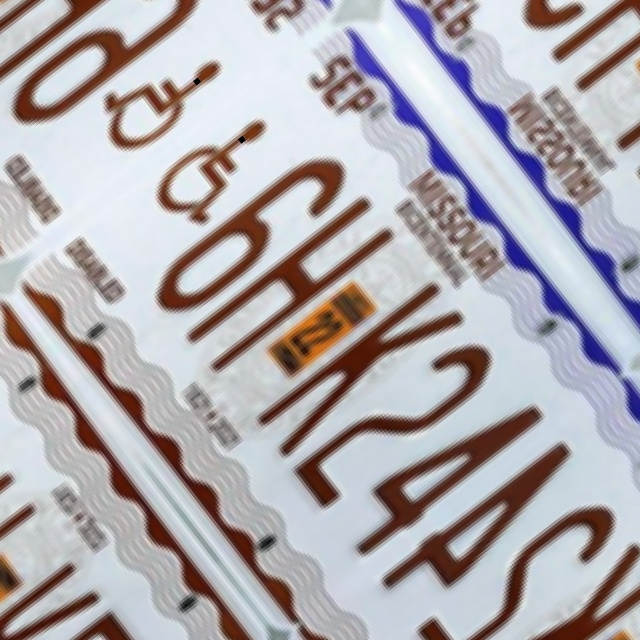ISA: (142, 101, 292, 239), (86, 27, 235, 165)
